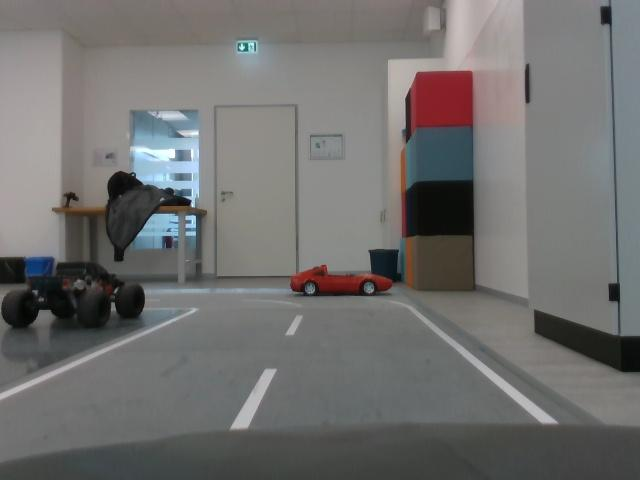car: (5, 258, 150, 332), (288, 259, 399, 303)
